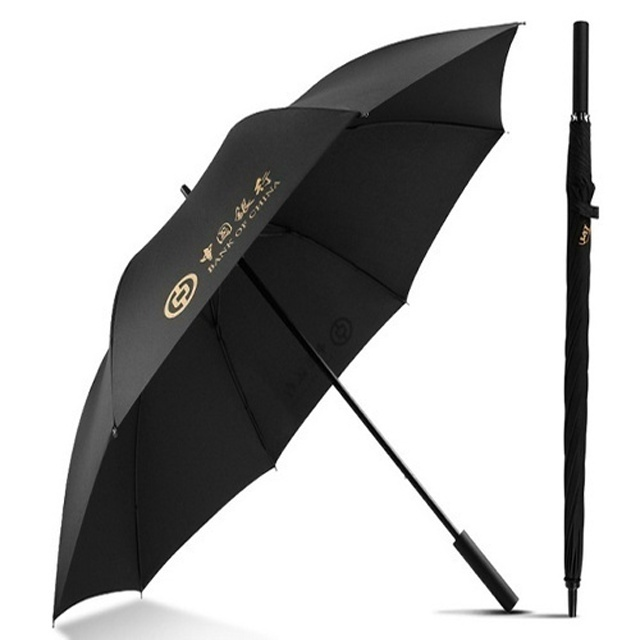umbrella: (49, 17, 532, 629), (560, 15, 602, 622)
